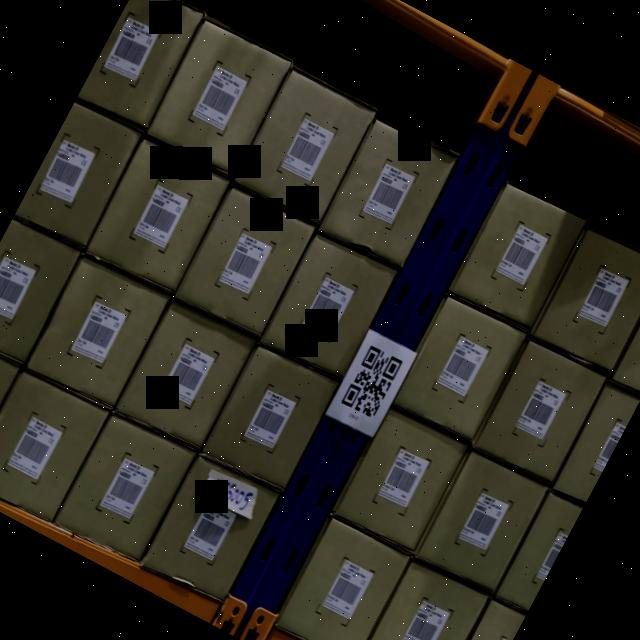box: (143, 12, 294, 180), (84, 133, 234, 294), (231, 66, 378, 228), (112, 294, 260, 454), (173, 180, 319, 340), (24, 252, 169, 411), (316, 116, 459, 274), (258, 225, 400, 383), (12, 95, 148, 256), (55, 408, 197, 561), (448, 180, 588, 333), (388, 294, 528, 446), (331, 406, 471, 558), (472, 334, 610, 488), (203, 344, 339, 492), (144, 452, 280, 600), (414, 448, 550, 596), (271, 512, 412, 640), (0, 366, 110, 524), (529, 223, 640, 377), (78, 0, 208, 129), (0, 216, 83, 367), (355, 556, 489, 640), (496, 490, 584, 616), (553, 378, 640, 501), (435, 595, 527, 640), (608, 271, 640, 396)
